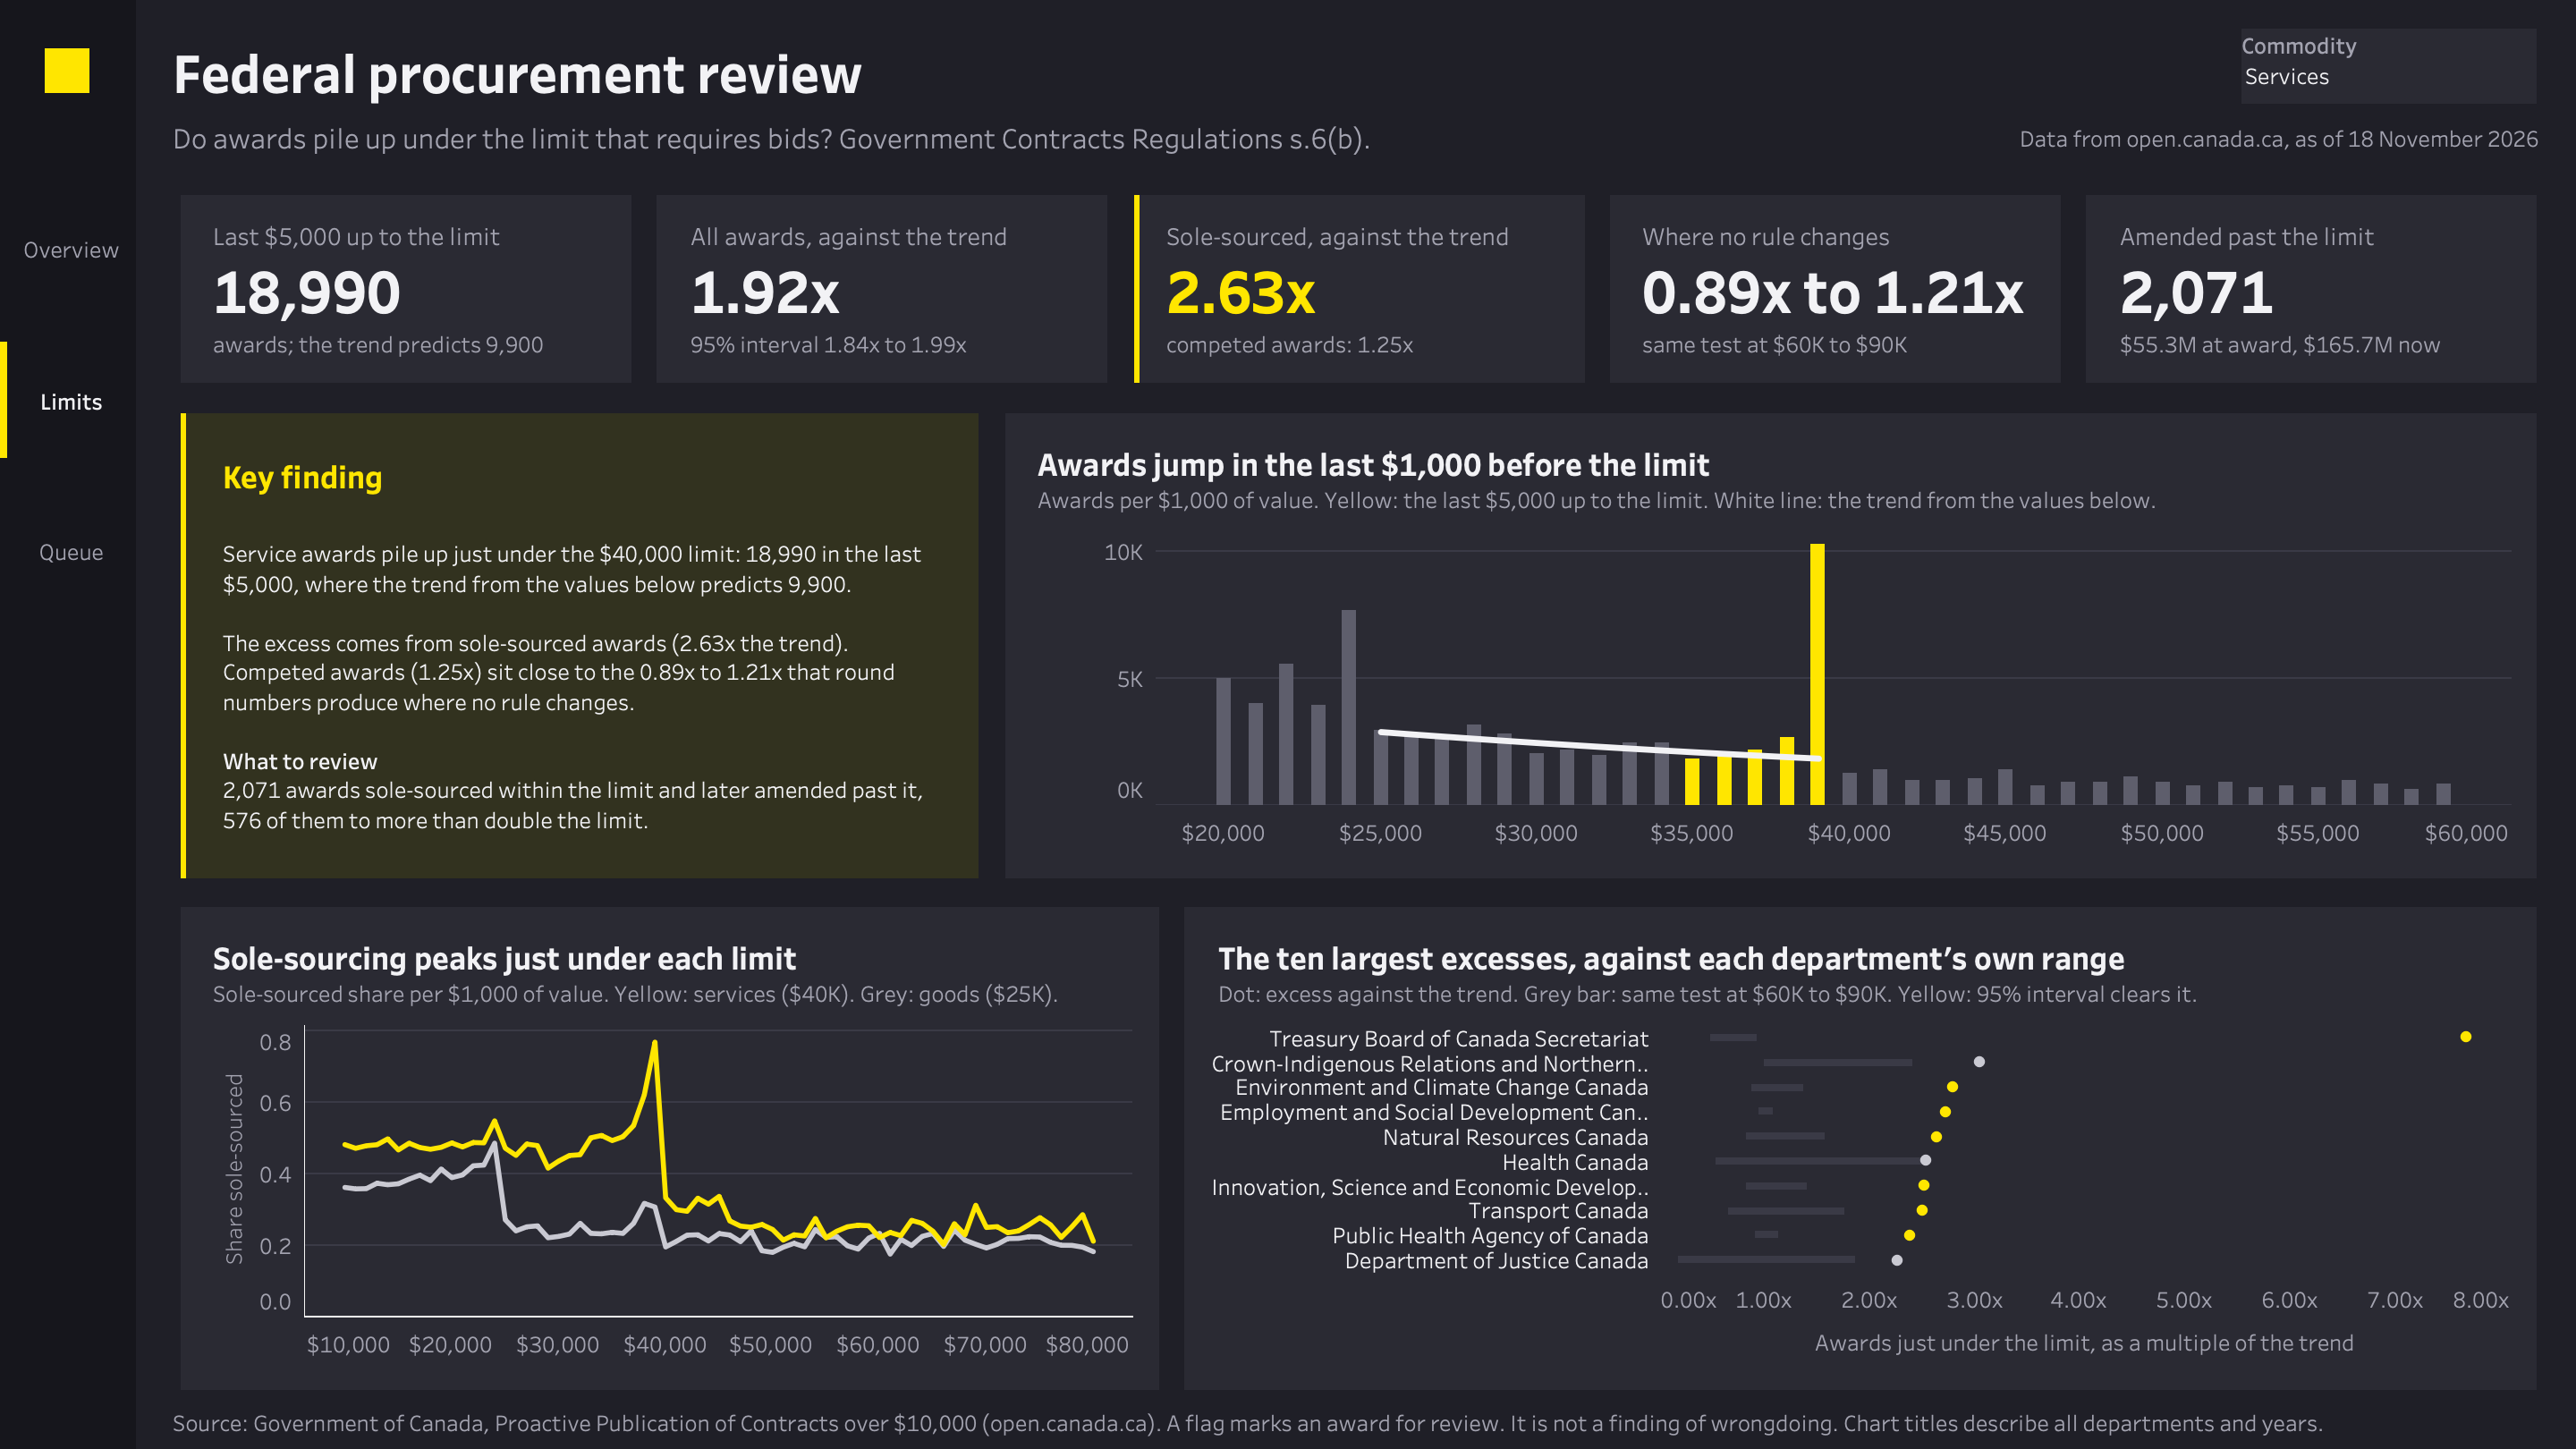

This screenshot's page, from the dashboard's own definition file:
{"tool":"tableau","page":{"name":"Limits","canvas":[1440,810],"ordinal":1},"visuals":[{"type":"blank","box":[0,0,75.6,810]},{"type":"parameter","param":"[Parameters].[p_commodity]","box":[1252.8,16.2,165.6,41.4]},{"type":"text","box":[93.6,19.8,630,41.4]},{"type":"blank","box":[25.2,27,25.2,25.2]},{"type":"text","box":[93.6,64.8,882,25.2]},{"type":"text","box":[1062,64.8,360,25.2]},{"type":"blank","box":[100.8,108.9,252,105.3]},{"type":"blank","box":[367.2,108.9,252,105.3]},{"type":"blank","box":[633.6,108.9,252,105.3]},{"type":"blank","box":[633.6,108.9,3.6,105.3]},{"type":"blank","box":[900,108.9,252,105.3]},{"type":"blank","box":[1166.4,108.9,252,105.3]},{"type":"worksheet","title":"Card: observed","mark":"Text","box":[115.2,116.1,232.2,92.7]},{"type":"worksheet","title":"Card: ratio","mark":"Text","box":[381.6,116.1,232.2,92.7]},{"type":"worksheet","title":"Card: sole-sourced ratio","mark":"Text","box":[648,116.1,232.2,92.7]},{"type":"worksheet","title":"Card: placebo","mark":"Text","box":[914.4,116.1,232.2,92.7]},{"type":"worksheet","title":"Card: amended past limit","mark":"Text","box":[1180.8,116.1,232.2,92.7]},{"type":"text","box":[3.6,126,72,27]},{"type":"blank","box":[0,190.8,3.6,64.8]},{"type":"text","box":[3.6,210.6,72,27]},{"type":"blank","box":[100.8,231.3,446.4,259.2]},{"type":"blank","box":[100.8,231.3,3.6,259.2]},{"type":"blank","box":[561.6,231.3,856.8,259.2]},{"type":"worksheet","title":"Awards per $1,000","mark":"Automatic","rows":["trend"],"cols":["bin_start"],"box":[576,242.1,828,237.6]},{"type":"text","box":[122.4,245.7,406.8,234]},{"type":"text","box":[3.6,295.2,72,27]},{"type":"blank","box":[100.8,506.7,547.2,270]},{"type":"blank","box":[662.4,506.7,756,270]},{"type":"worksheet","title":"Sole-sourced share by value","mark":"Line","cols":["bin_start"],"box":[115.2,517.5,518.4,248.4]},{"type":"worksheet","title":"Departments against their own range","mark":"Automatic","rows":["department"],"cols":["placebo_lo"],"box":[676.8,517.5,727.2,248.4]},{"type":"text","box":[93.6,784.8,1260,21.6]}]}

Visuals, with their boxes in screenshot pixels (x1, y1, x2, y2), scaled from the page's 1440x810 canvas onto the 2576x1449 screenshot:
blank: bbox=[0, 0, 135, 1448]
parameter: bbox=[2241, 29, 2538, 103]
text: bbox=[167, 36, 1294, 109]
blank: bbox=[45, 48, 90, 93]
text: bbox=[167, 116, 1745, 161]
text: bbox=[1900, 116, 2544, 161]
blank: bbox=[181, 195, 631, 383]
blank: bbox=[657, 195, 1107, 383]
blank: bbox=[1133, 195, 1584, 383]
blank: bbox=[1133, 195, 1140, 383]
blank: bbox=[1610, 195, 2061, 383]
blank: bbox=[2087, 195, 2538, 383]
"Card: observed" worksheet (Text marks): bbox=[206, 208, 622, 374]
"Card: ratio" worksheet (Text marks): bbox=[682, 208, 1098, 374]
"Card: sole-sourced ratio" worksheet (Text marks): bbox=[1159, 208, 1574, 374]
"Card: placebo" worksheet (Text marks): bbox=[1636, 208, 2051, 374]
"Card: amended past limit" worksheet (Text marks): bbox=[2113, 208, 2528, 374]
text: bbox=[6, 225, 135, 274]
blank: bbox=[0, 342, 6, 457]
text: bbox=[6, 377, 135, 425]
blank: bbox=[181, 414, 979, 877]
blank: bbox=[181, 414, 187, 877]
blank: bbox=[1004, 414, 2538, 877]
"Awards per $1,000" worksheet: bbox=[1030, 433, 2512, 858]
text: bbox=[219, 439, 946, 858]
text: bbox=[6, 528, 135, 576]
blank: bbox=[181, 906, 1159, 1389]
blank: bbox=[1185, 906, 2538, 1389]
"Sole-sourced share by value" worksheet (Line marks): bbox=[206, 926, 1133, 1370]
"Departments against their own range" worksheet: bbox=[1211, 926, 2512, 1370]
text: bbox=[167, 1404, 2421, 1443]
